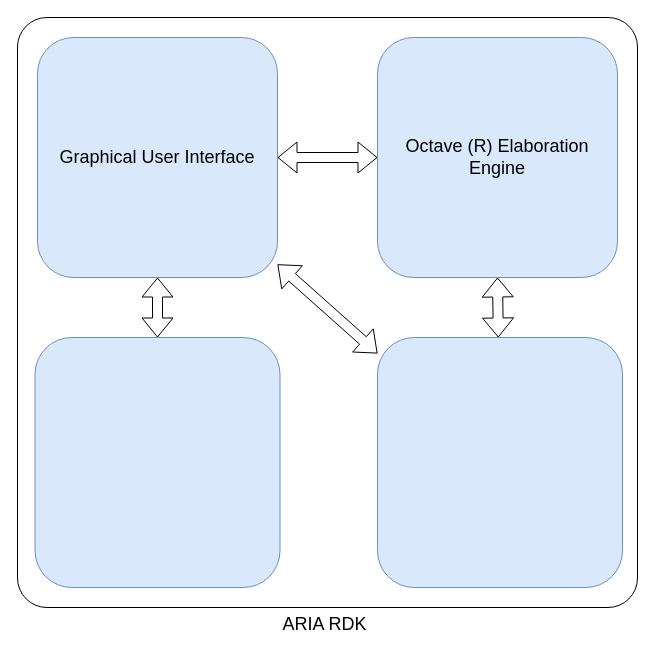
Image size: 655x654. Some labels were removed from this diagram. The centre of each missing label's shape, as x and y in pixels:
Operation Scheduler Data I/O: the point at 157,462
Workspace and Plotting: the point at 499,462
